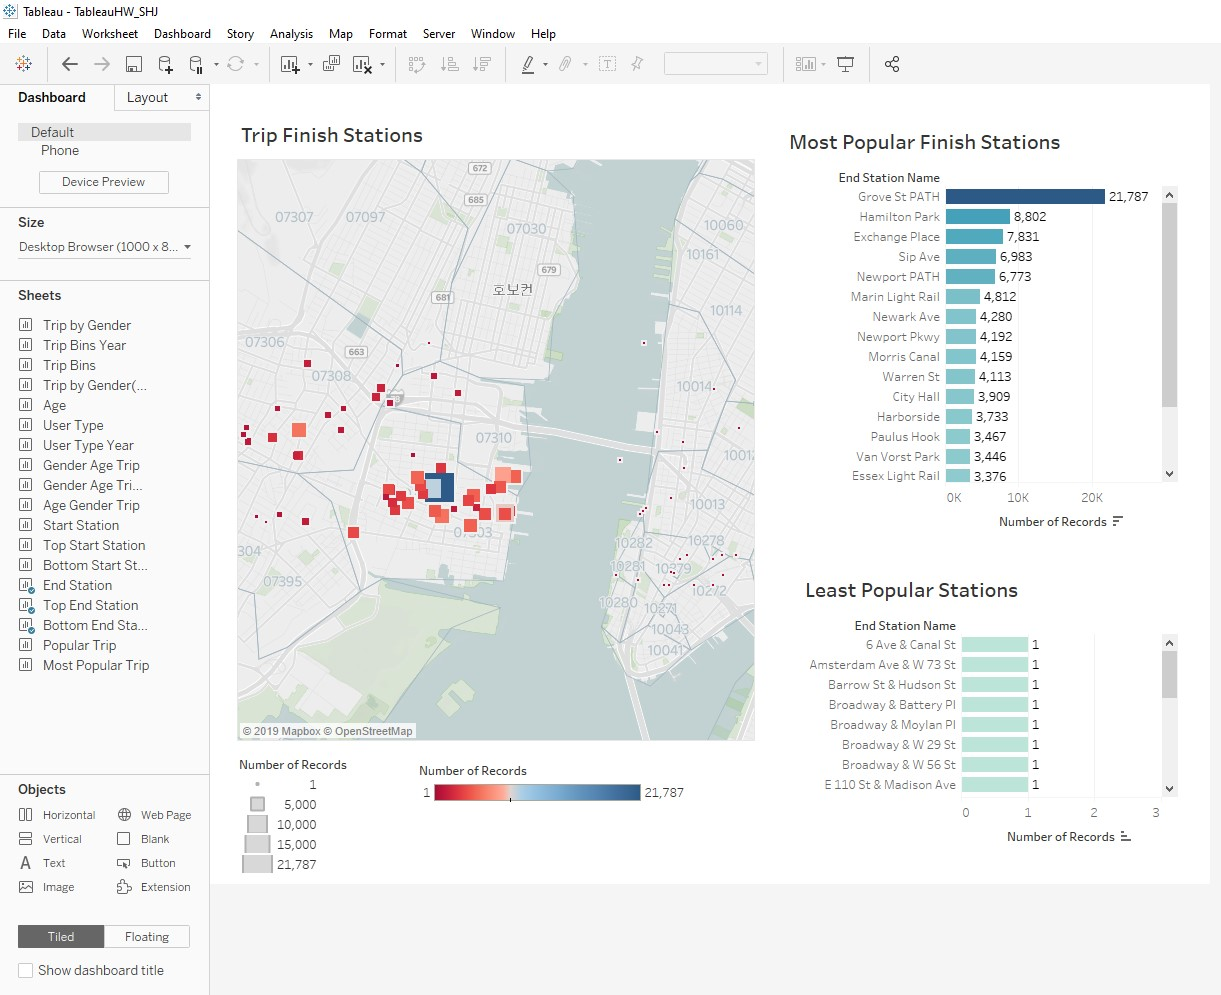

This screenshot's page, from the dashboard's own definition file:
{"tool":"tableau","page":{"name":"Finish Map Dashboard","canvas":[1000,800],"ordinal":0},"visuals":[{"type":"worksheet","title":"End Station","mark":"Square","rows":["Start Station Latitude"],"cols":["End Station Longitude"],"box":[27,32,518,625]},{"type":"worksheet","title":"Top End Station","mark":"Bar","rows":["End Station Name"],"cols":["Number of Records"],"box":[575,39,393,414]},{"type":"worksheet","title":"Bottom End Station","mark":"Bar","rows":["End Station Name"],"cols":["Number of Records"],"box":[591,487,377,281]},{"type":"legend","title":"End Station","param":"[federated.093bcvo16awe271av9blk055fpej].[sum:Number of Records:qk]","box":[29,672,149,118]},{"type":"legend","title":"End Station","param":"[federated.093bcvo16awe271av9blk055fpej].[sum:Number of Records:qk]","box":[209,678,270,76]}]}

Visuals, with their boxes on the page's 1000x800 design canvas (x1, y1, x2, y2). These are canvas units, not pixel positions in the 1221x995 screenshot, which may show the page scaled, cropped or inside an application window:
"End Station" worksheet (Square marks): 27, 32, 545, 657
"Top End Station" worksheet (Bar marks): 575, 39, 968, 453
"Bottom End Station" worksheet (Bar marks): 591, 487, 968, 768
"End Station" legend: 29, 672, 178, 790
"End Station" legend: 209, 678, 479, 754
